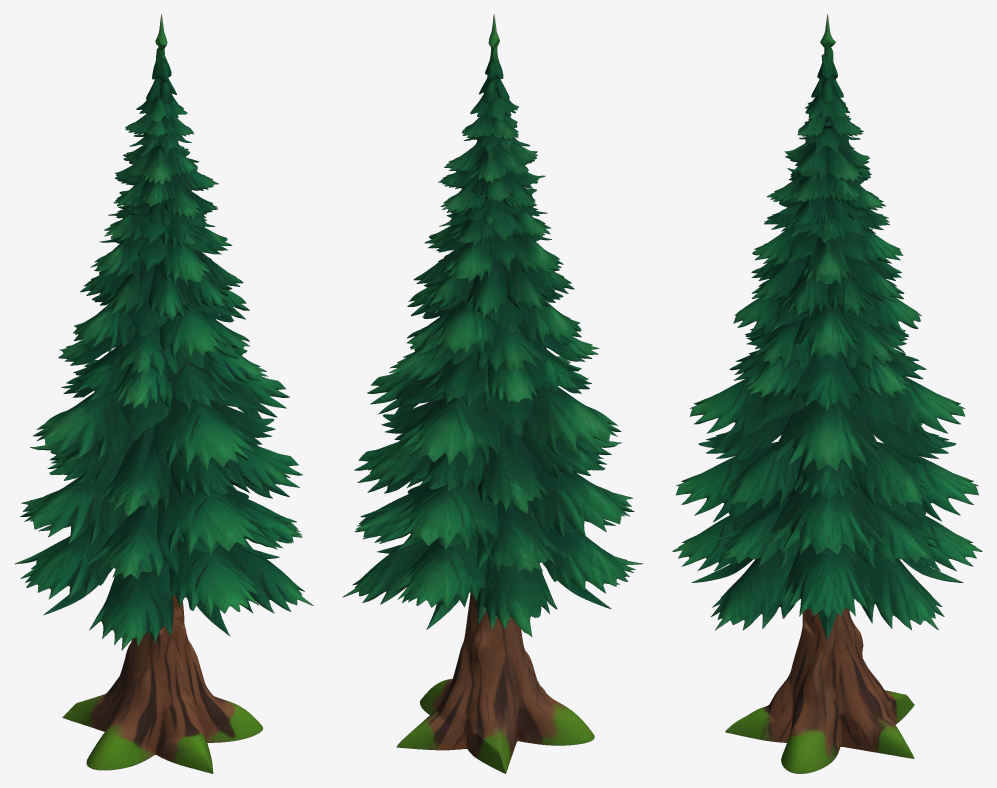
The model's file is Tree_Pine_RO.glb.
3 views of the same model, side by side, from view 1: azimuth 30°, elevation 25°; view 2: azimuth 150°, elevation 25°; view 3: azimuth 270°, elevation 25° (orthographic).
Bounding box in the file's own units: 0.7429 × 1.9 × 0.7428.
Materials: 1 (1 with a texture image).
